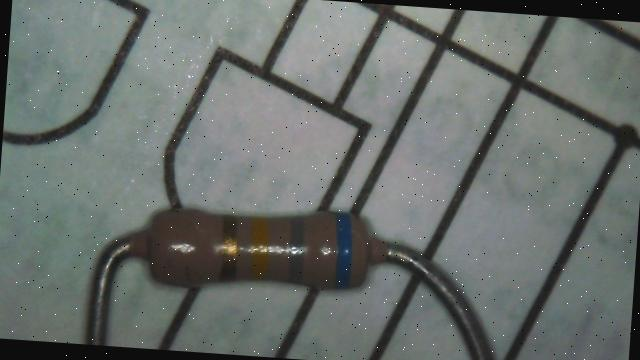blue: (330, 212, 355, 288)
gold: (218, 215, 240, 281)
grey: (286, 216, 306, 282)
resistor: (134, 185, 387, 309)
yellow: (248, 216, 270, 278)
